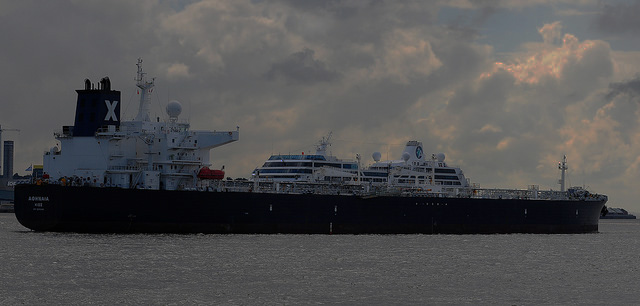tanker: (15, 61, 607, 239)
